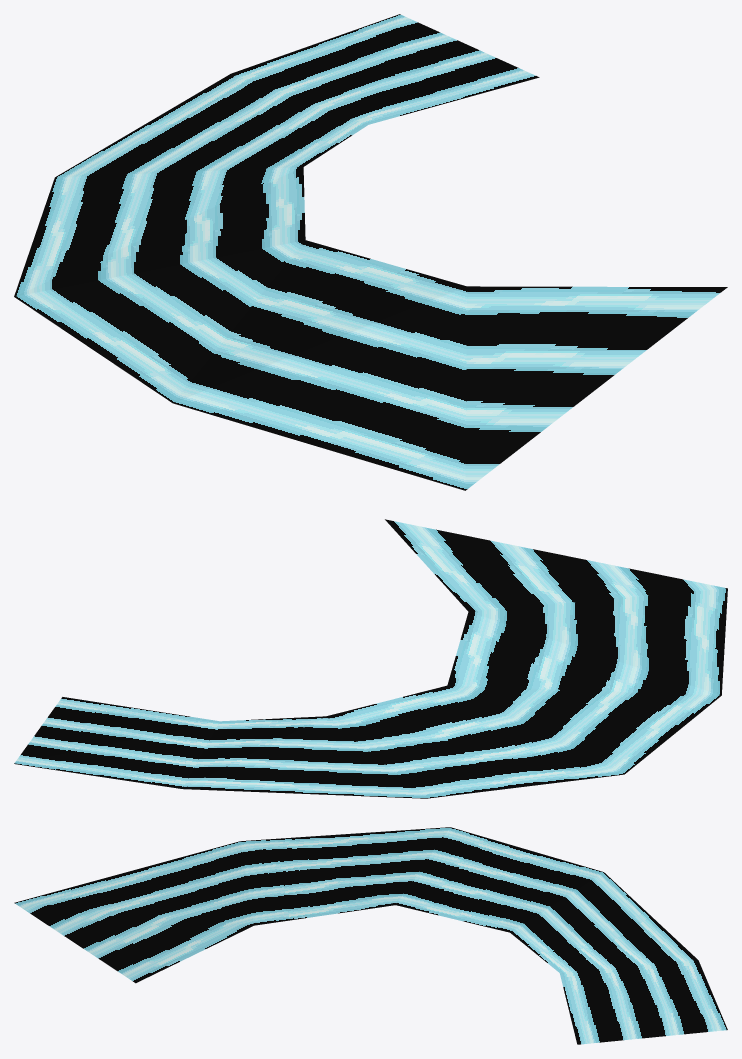
3 views of the same model, one above another, from view 1: azimuth 30°, elevation 25°; view 2: azimuth 150°, elevation 25°; view 3: azimuth 270°, elevation 25° (orthographic). The views are drawn at different scales.
Visible parts, largest first — view 1: ef_612; view 2: ef_612; view 3: ef_612.
Boxes of the visible parts, x1,y1,x2,y2 form: ef_612: [14, 14, 727, 490]; ef_612: [14, 519, 727, 798]; ef_612: [14, 827, 727, 1044].
Size of the model in its own units: 0.9844 by 0.0938 by 1.32.
Materials: 1 (1 with a texture image).
